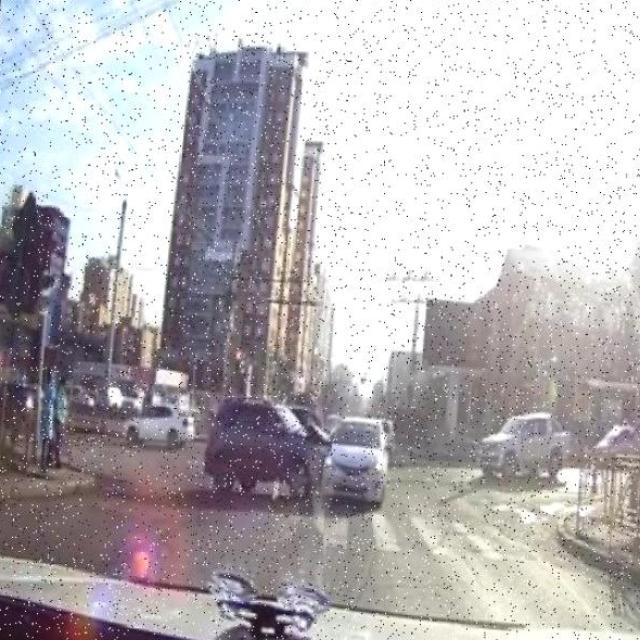accident: (196, 386, 408, 522)
